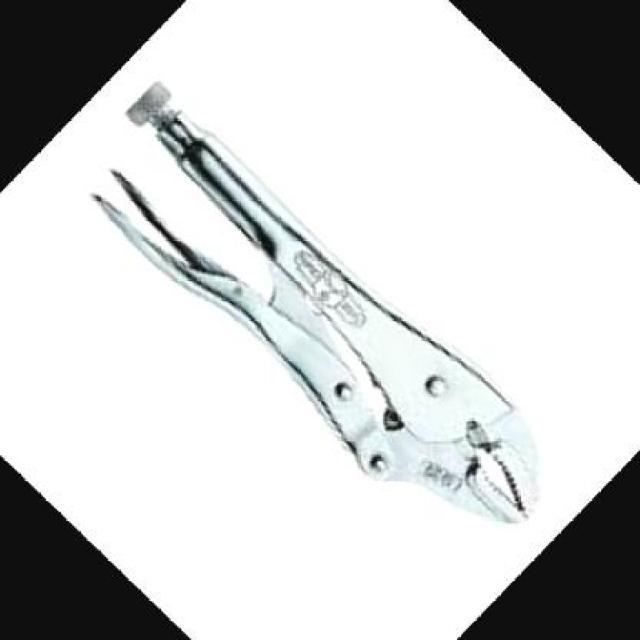pliers: (32, 43, 610, 612)
